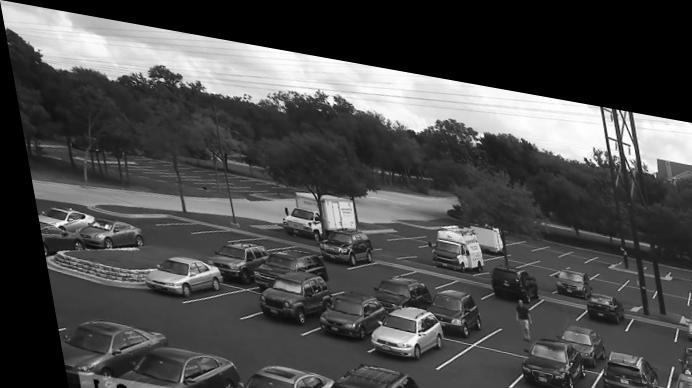empty: (424, 326, 512, 369), (177, 279, 252, 314), (615, 292, 670, 322), (482, 304, 529, 332), (393, 252, 447, 275), (615, 319, 658, 346), (526, 279, 575, 301), (344, 247, 401, 264), (152, 215, 220, 229), (437, 259, 482, 278), (317, 263, 358, 281), (190, 224, 246, 235), (385, 221, 430, 234), (608, 263, 649, 277), (645, 269, 685, 283), (239, 228, 285, 240), (620, 253, 656, 268), (511, 245, 549, 259), (590, 246, 624, 261), (520, 256, 548, 272), (661, 246, 689, 261), (528, 236, 562, 248), (584, 257, 617, 269), (562, 242, 594, 254), (498, 231, 532, 242), (651, 260, 682, 272), (583, 234, 615, 245), (604, 272, 627, 287), (480, 239, 517, 248), (555, 230, 585, 240), (531, 227, 559, 236), (504, 223, 535, 231), (681, 264, 692, 274), (683, 275, 692, 286), (684, 250, 692, 262)
occupied: (47, 314, 154, 386), (94, 340, 228, 388), (360, 290, 444, 351), (249, 262, 324, 317), (305, 278, 380, 332), (510, 319, 579, 373), (588, 330, 653, 386), (316, 352, 413, 388), (136, 252, 214, 292), (224, 357, 324, 388), (307, 215, 366, 259), (420, 276, 473, 322), (425, 210, 478, 256), (203, 237, 258, 277), (484, 249, 533, 293), (364, 266, 429, 298), (69, 215, 134, 247), (552, 305, 596, 349), (249, 240, 318, 265), (31, 223, 77, 257), (661, 345, 692, 388), (546, 249, 584, 280), (581, 272, 617, 304), (676, 326, 692, 352), (679, 290, 692, 316)
